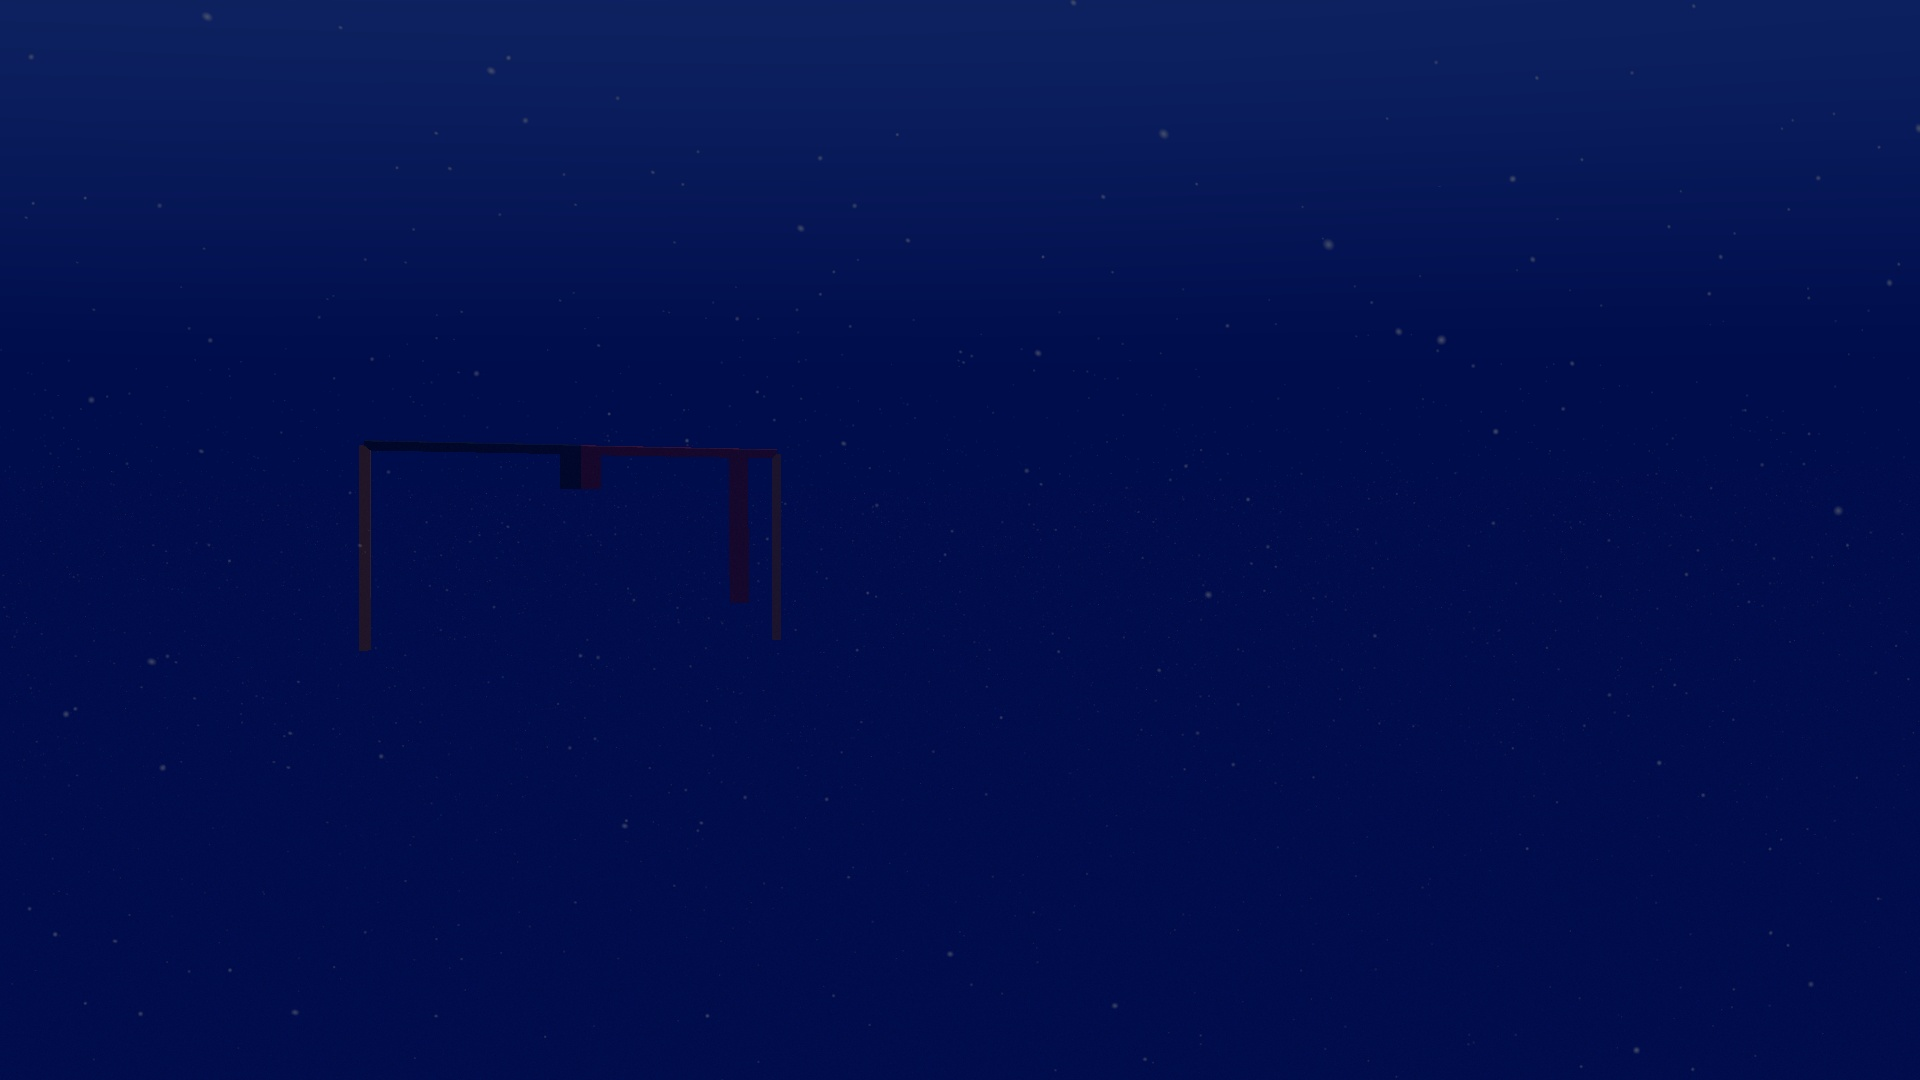Gate: (351, 433, 789, 658)
